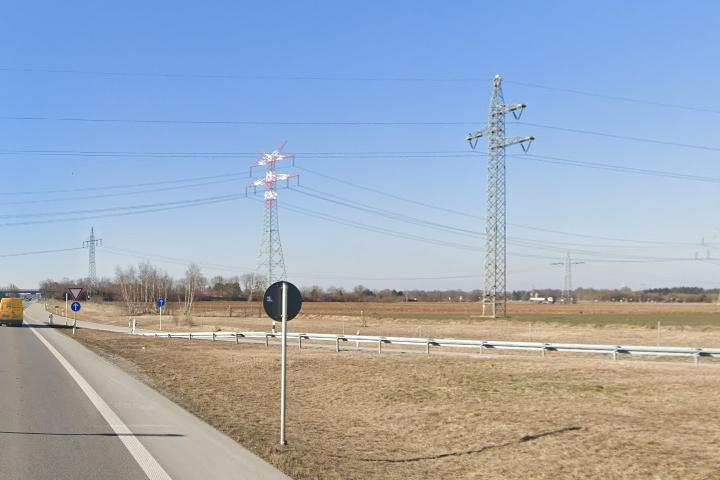traffic_sign: (68, 288, 83, 301), (70, 302, 81, 312), (158, 299, 165, 307)
vehicle: (1, 296, 28, 331)
